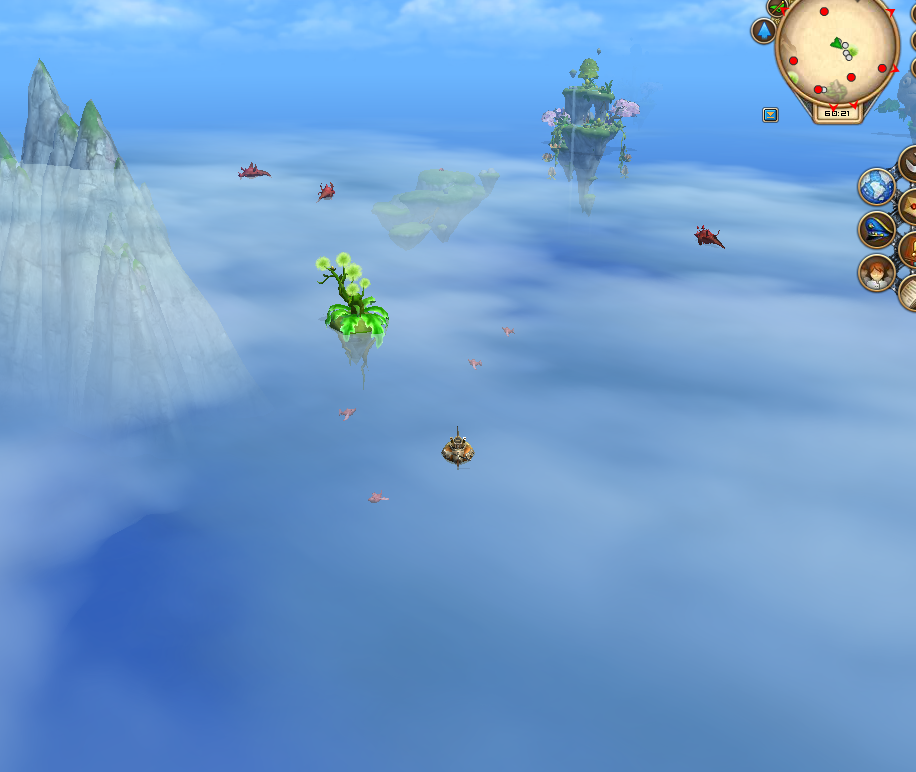dandelion-full: (312, 245, 394, 365)
